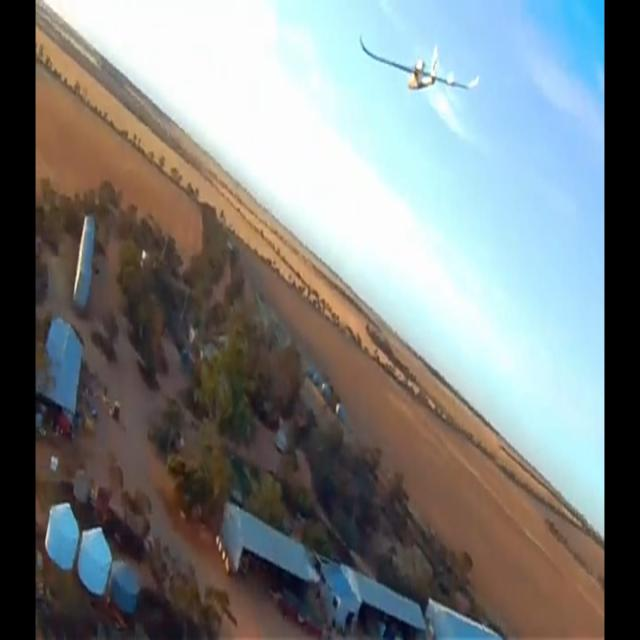iha: (390, 0, 447, 32)
